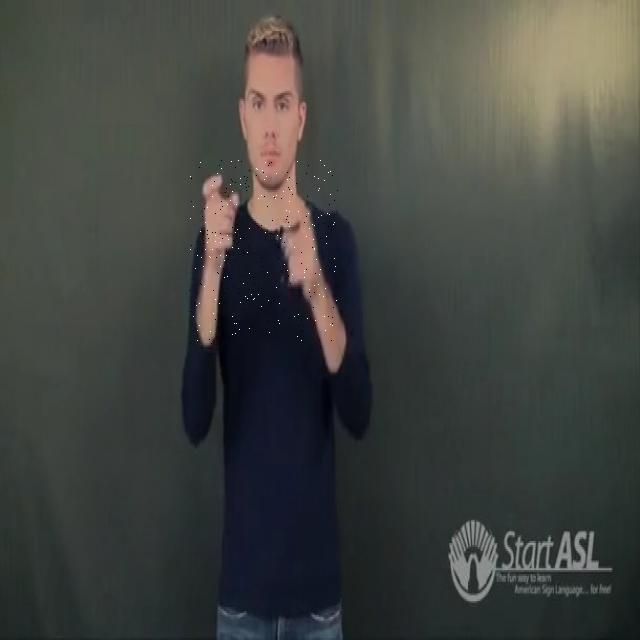manager: (189, 160, 339, 344)
